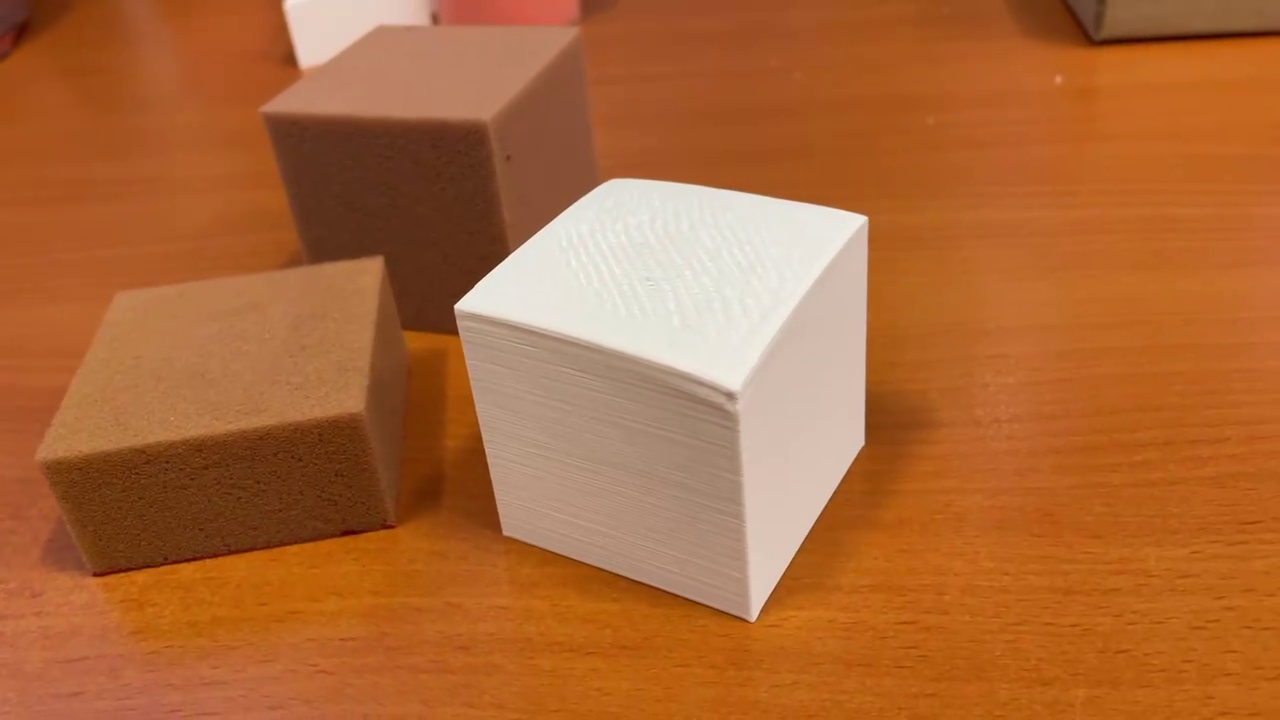Cube: (439, 172, 873, 625), (258, 21, 601, 339)
Cube_short: (37, 253, 421, 579)
